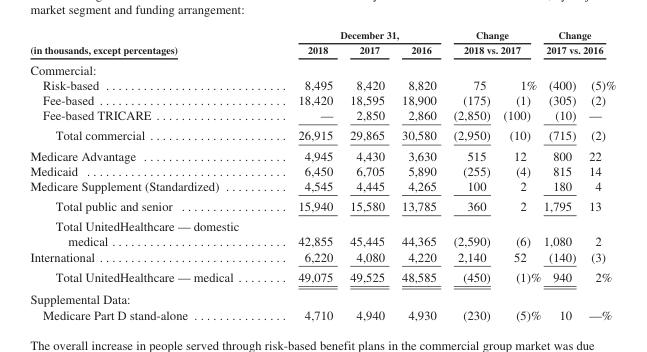table: (29, 28, 615, 321)
table column: (29, 28, 267, 321), (267, 28, 340, 321), (340, 28, 392, 321), (392, 28, 444, 321), (444, 28, 496, 321), (496, 28, 541, 321), (541, 28, 581, 321), (581, 28, 615, 321)
table column header: (29, 28, 615, 58)
table projected row header: (29, 287, 615, 306), (29, 58, 615, 76)
table row: (29, 215, 615, 248), (29, 124, 615, 145), (29, 266, 615, 287), (29, 195, 615, 215), (29, 287, 615, 306), (29, 58, 615, 76), (29, 177, 615, 195), (29, 248, 615, 266), (29, 107, 615, 124), (29, 145, 615, 162), (29, 42, 615, 58), (29, 76, 615, 92), (29, 92, 615, 107), (29, 162, 615, 177), (29, 306, 615, 321), (29, 28, 615, 42)
table spanning cell: (29, 28, 267, 58), (444, 28, 541, 58), (267, 28, 444, 42), (541, 28, 615, 58)
